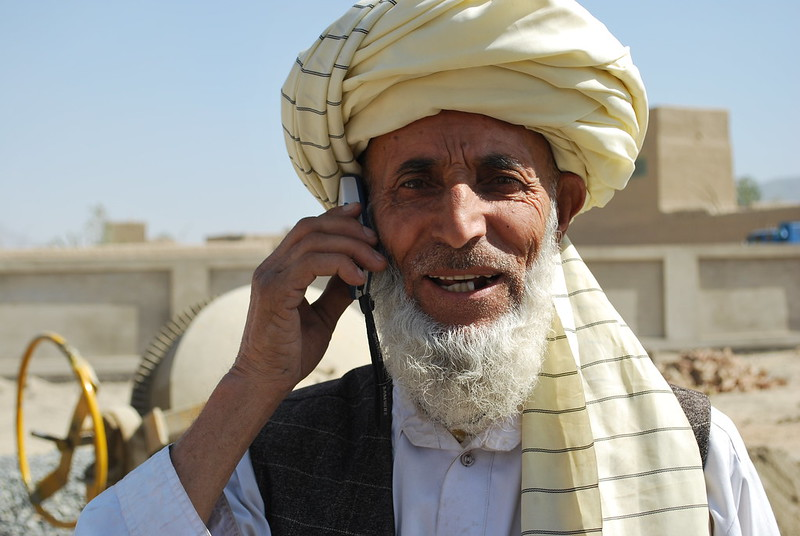phone: (315, 168, 383, 306)
talk: (252, 126, 562, 396)
